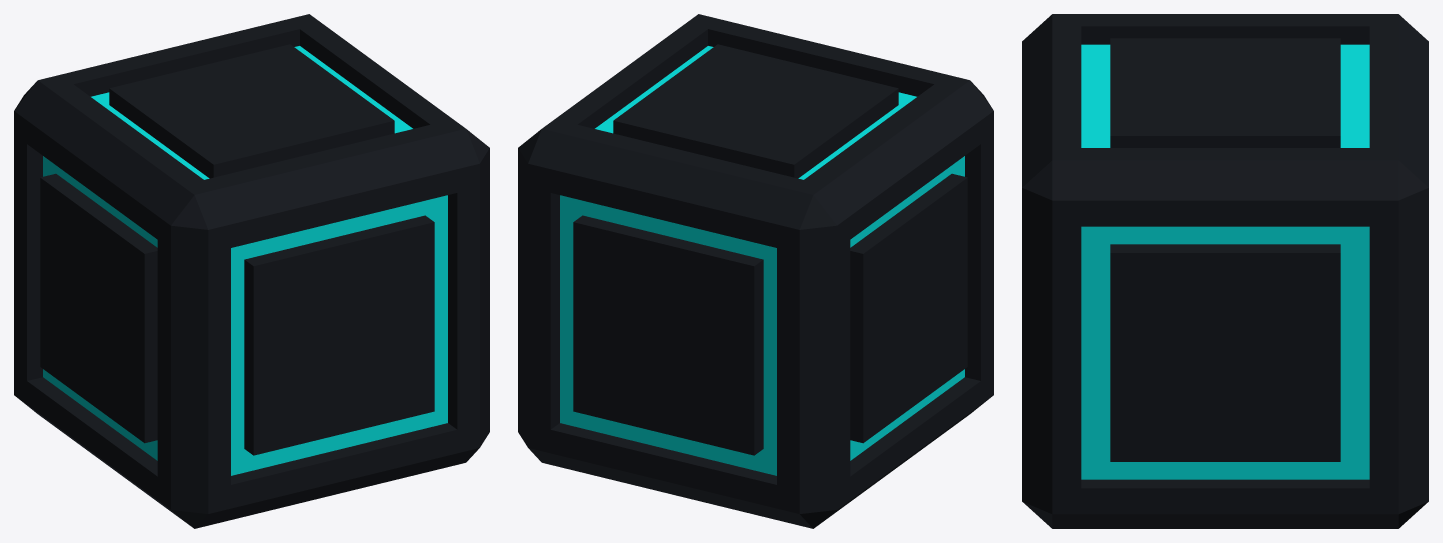
The model's file is newCube.fbx.
3 renders of one model, left to right at view 1: azimuth 30°, elevation 25°; view 2: azimuth 150°, elevation 25°; view 3: azimuth 270°, elevation 25°, orthographic. The views are drawn at different scales.
Visible parts, largest first — view 1: Cube, Cube_Neon_Part; view 2: Cube, Cube_Neon_Part; view 3: Cube, Cube_Neon_Part.
Boxes of the visible parts, x1,y1,x2,y2 form: Cube: [14, 14, 489, 528]; Cube_Neon_Part: [43, 46, 447, 475]; Cube: [518, 14, 993, 528]; Cube_Neon_Part: [560, 46, 964, 475]; Cube: [1022, 14, 1428, 528]; Cube_Neon_Part: [1081, 44, 1369, 479].
Bounding box in the file's own units: 200 × 200 × 200.
